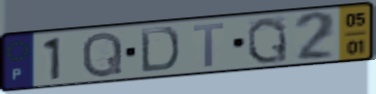1: (40, 35, 65, 82)
2: (292, 10, 338, 64)
D: (138, 25, 182, 75)
Q: (245, 15, 291, 66), (80, 30, 125, 80)
T: (191, 21, 227, 69)
